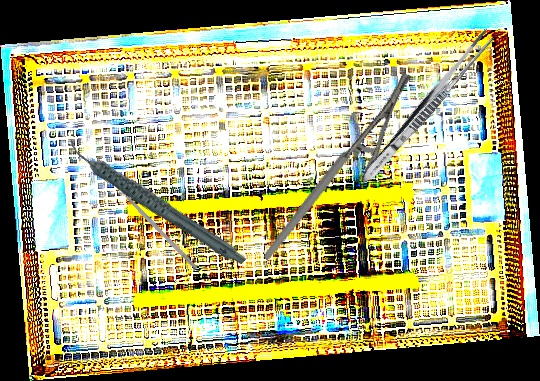Chopper: (113, 178, 202, 270)
Dressing Forceps: (356, 25, 497, 189)
Handpiece: (65, 106, 249, 297)
Needle Holder: (220, 68, 453, 262)
